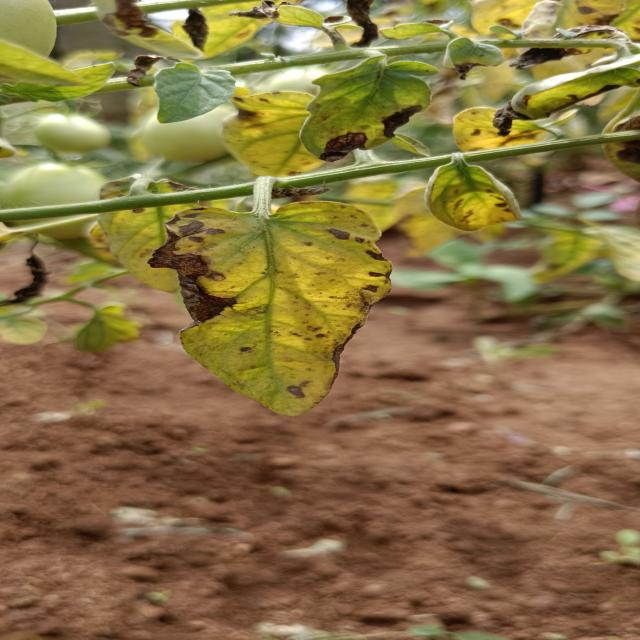tomato_early blight: (147, 176, 390, 416), (298, 54, 437, 161), (208, 84, 360, 178), (424, 152, 520, 231)
